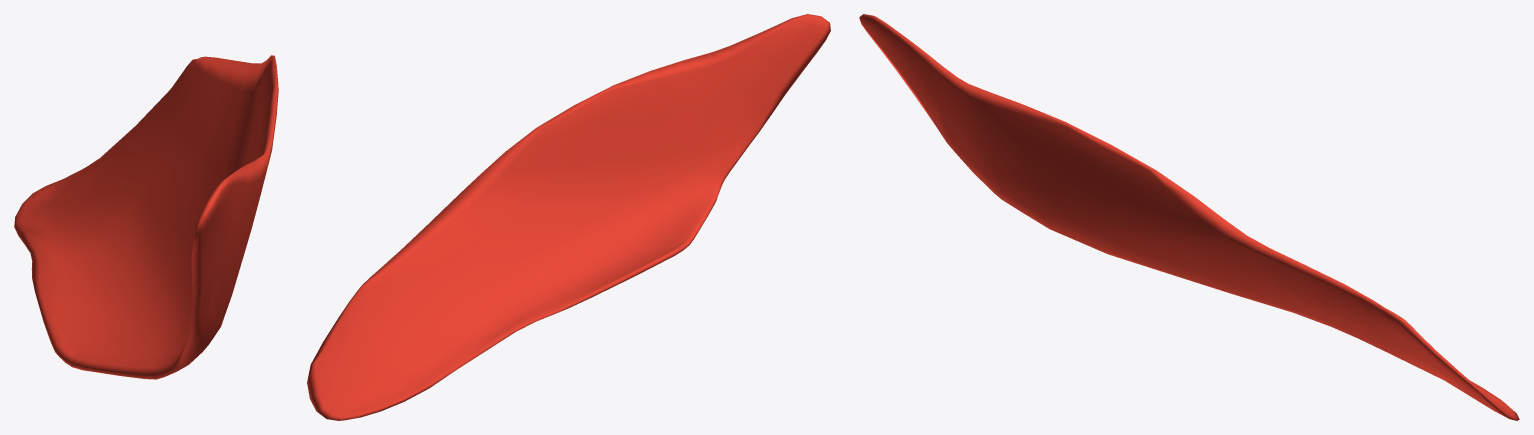
Rendered from Adductor_magnus-Ischiatic_insertion.l_Generated_Mesh_From_X3D.8.glb.
The picture shows the model from 3 angles, left to right: view 1: azimuth 30°, elevation 25°; view 2: azimuth 150°, elevation 25°; view 3: azimuth 270°, elevation 25°; orthographic projection. The views are drawn at different scales.
Parts seen in each view (by area): view 1: Adductor_magnus-Ischiatic_insertion.l_Generated_Mesh_From_X3; view 2: Adductor_magnus-Ischiatic_insertion.l_Generated_Mesh_From_X3; view 3: Adductor_magnus-Ischiatic_insertion.l_Generated_Mesh_From_X3.
Part boxes in pixels (bbox=[...]): Adductor_magnus-Ischiatic_insertion.l_Generated_Mesh_From_X3: bbox=[14, 55, 278, 379]; Adductor_magnus-Ischiatic_insertion.l_Generated_Mesh_From_X3: bbox=[307, 14, 830, 420]; Adductor_magnus-Ischiatic_insertion.l_Generated_Mesh_From_X3: bbox=[859, 14, 1519, 420].
Bounding box in the file's own units: 0.0225 × 0.0215 × 0.0442.
